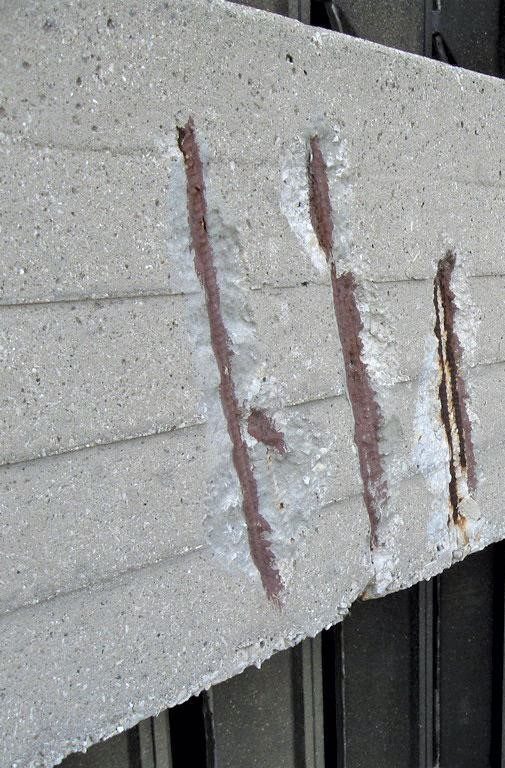Exposed reinforcement: (174, 116, 284, 602), (328, 259, 383, 548), (433, 247, 479, 491), (432, 284, 459, 525), (439, 283, 466, 470), (303, 135, 334, 262), (245, 408, 288, 455)
